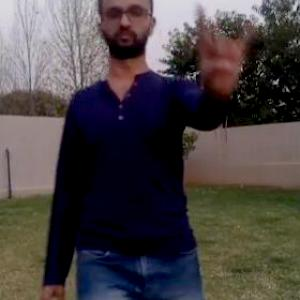takeoff-hand: (194, 1, 262, 86)
